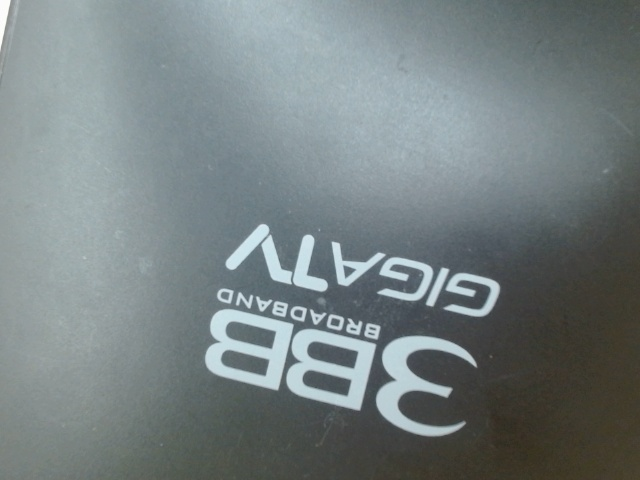AG_3BB: (192, 214, 509, 442)
